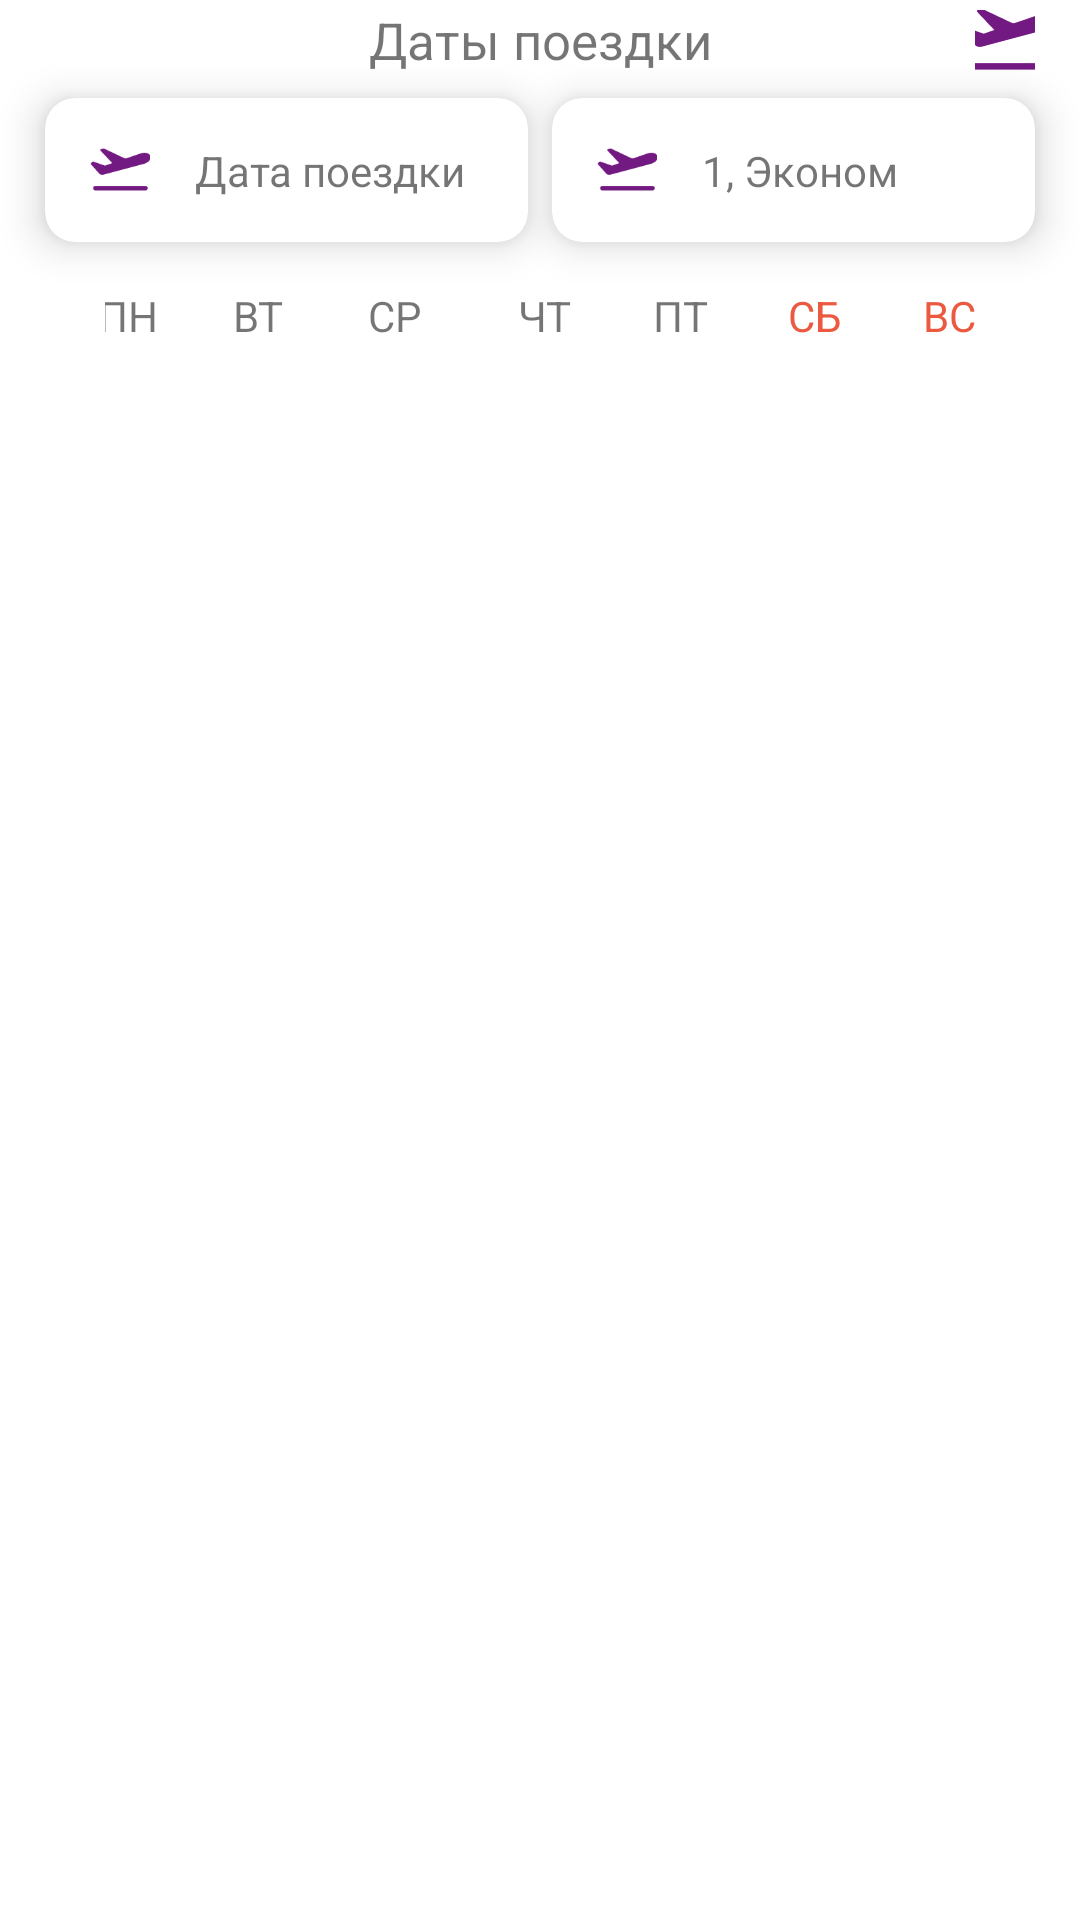

Locate icon controls on the screen. Image size 1080*1920, boxes as rect(x1, y1, x2, y2).
transportats: rect(975, 10, 1035, 70), rect(90, 148, 150, 191), rect(597, 148, 657, 191)
